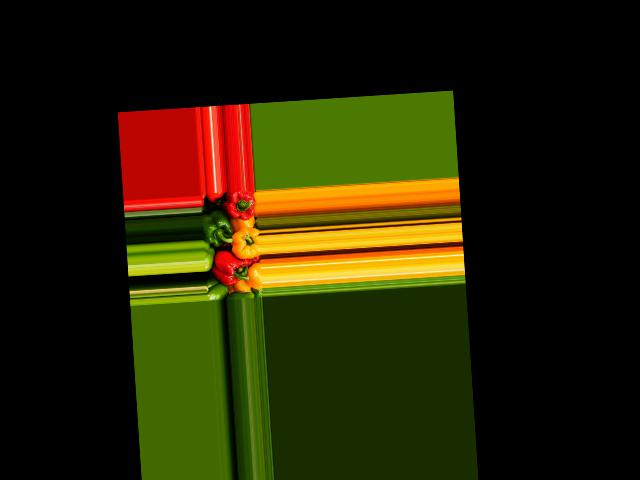bell_pepper: (222, 190, 257, 225)
